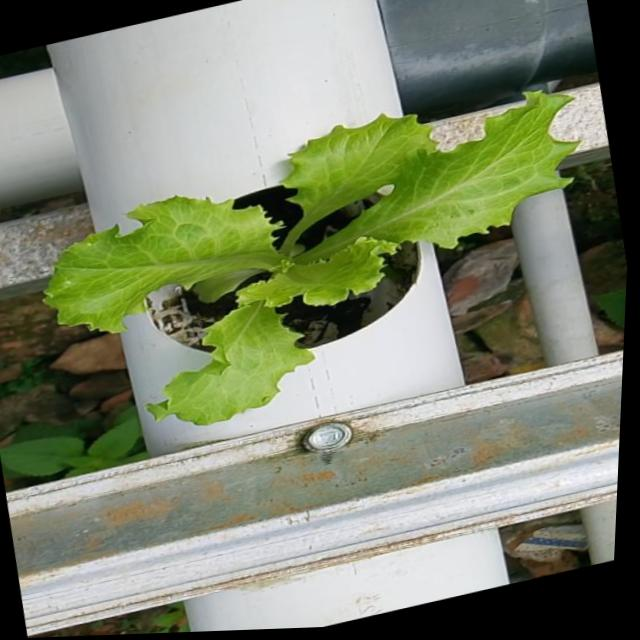Baby: (40, 97, 574, 431)
